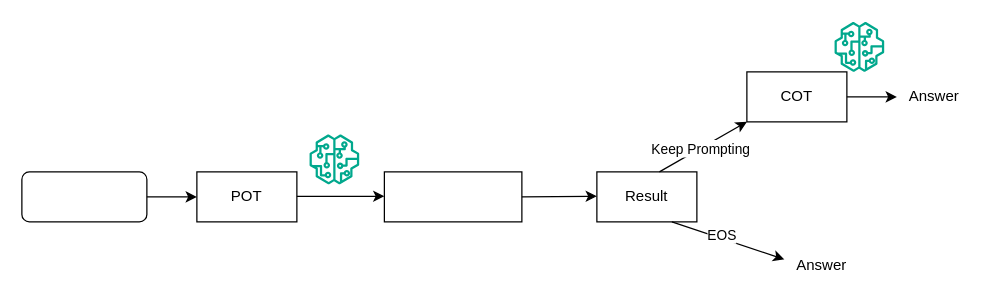
This 994x305 diagram has some shape labels left out. Each missing label, with the centre of its shape:
Program: (452,196)
Question: (84,196)
